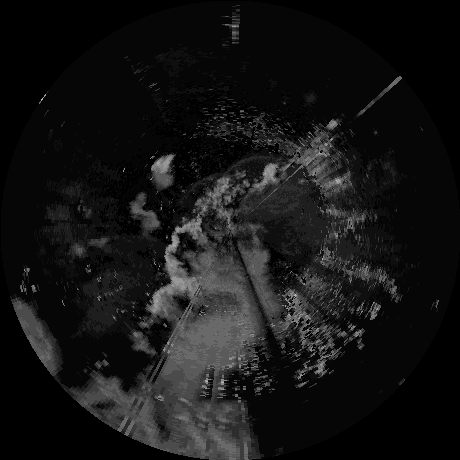frontgust: (224, 154, 282, 173)
